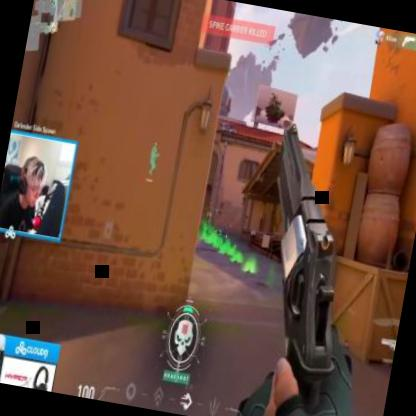enemy: (203, 209, 211, 230)
enemy_head: (208, 208, 210, 212)
